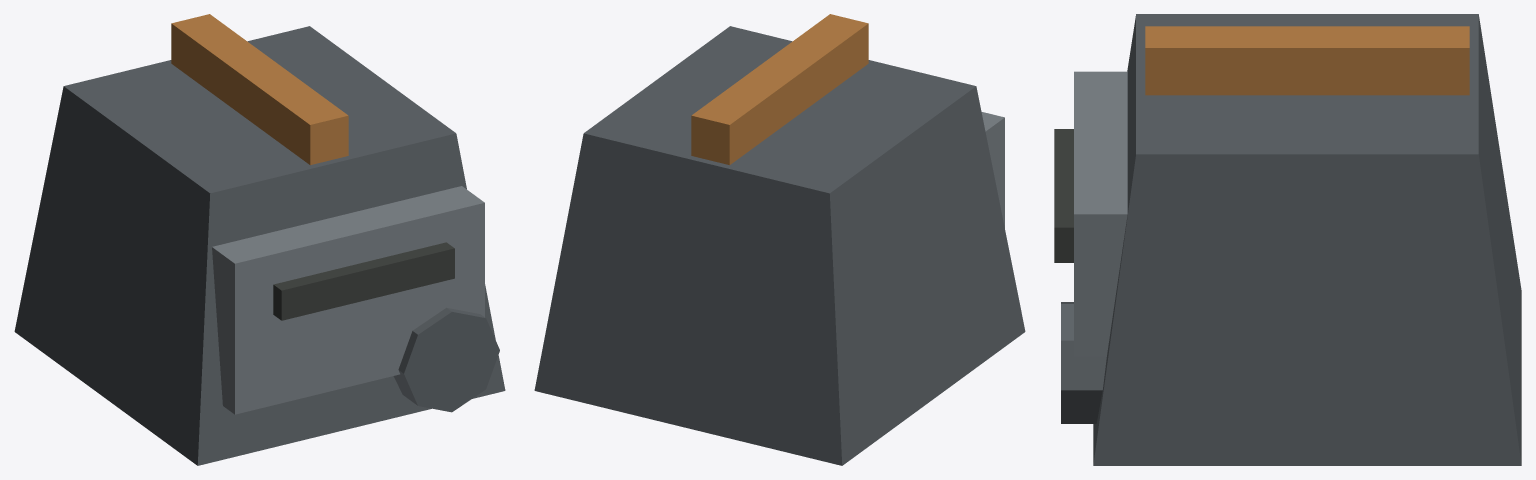
The model's file is item_armour_head_heavy.glb.
3 views of the same model, side by side, from view 1: azimuth 30°, elevation 25°; view 2: azimuth 150°, elevation 25°; view 3: azimuth 270°, elevation 25° (orthographic). The views are drawn at different scales.
Parts seen in each view (by area): view 1: shell, plate, crest, filter, slit; view 2: shell, crest, plate; view 3: shell, crest, plate, filter, slit.
Part boxes in pixels (bbox=[...]): shell: bbox=[14, 26, 505, 465]; plate: bbox=[212, 186, 484, 414]; crest: bbox=[171, 14, 348, 165]; filter: bbox=[393, 307, 499, 412]; slit: bbox=[273, 242, 454, 320]; shell: bbox=[534, 26, 1025, 465]; crest: bbox=[691, 14, 868, 165]; plate: bbox=[981, 112, 1004, 227]; shell: bbox=[1093, 14, 1521, 465]; crest: bbox=[1145, 26, 1469, 95]; plate: bbox=[1074, 71, 1127, 356]; filter: bbox=[1061, 302, 1106, 423]; slit: bbox=[1054, 129, 1073, 262].
Size of the model in its own units: 0.64 by 0.58 by 0.72.
